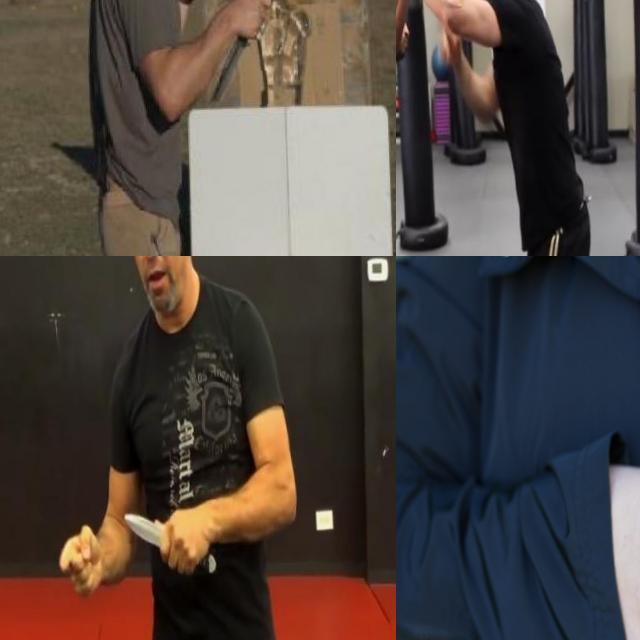-: (193, 0, 270, 109), (119, 504, 218, 586), (396, 0, 461, 36)
